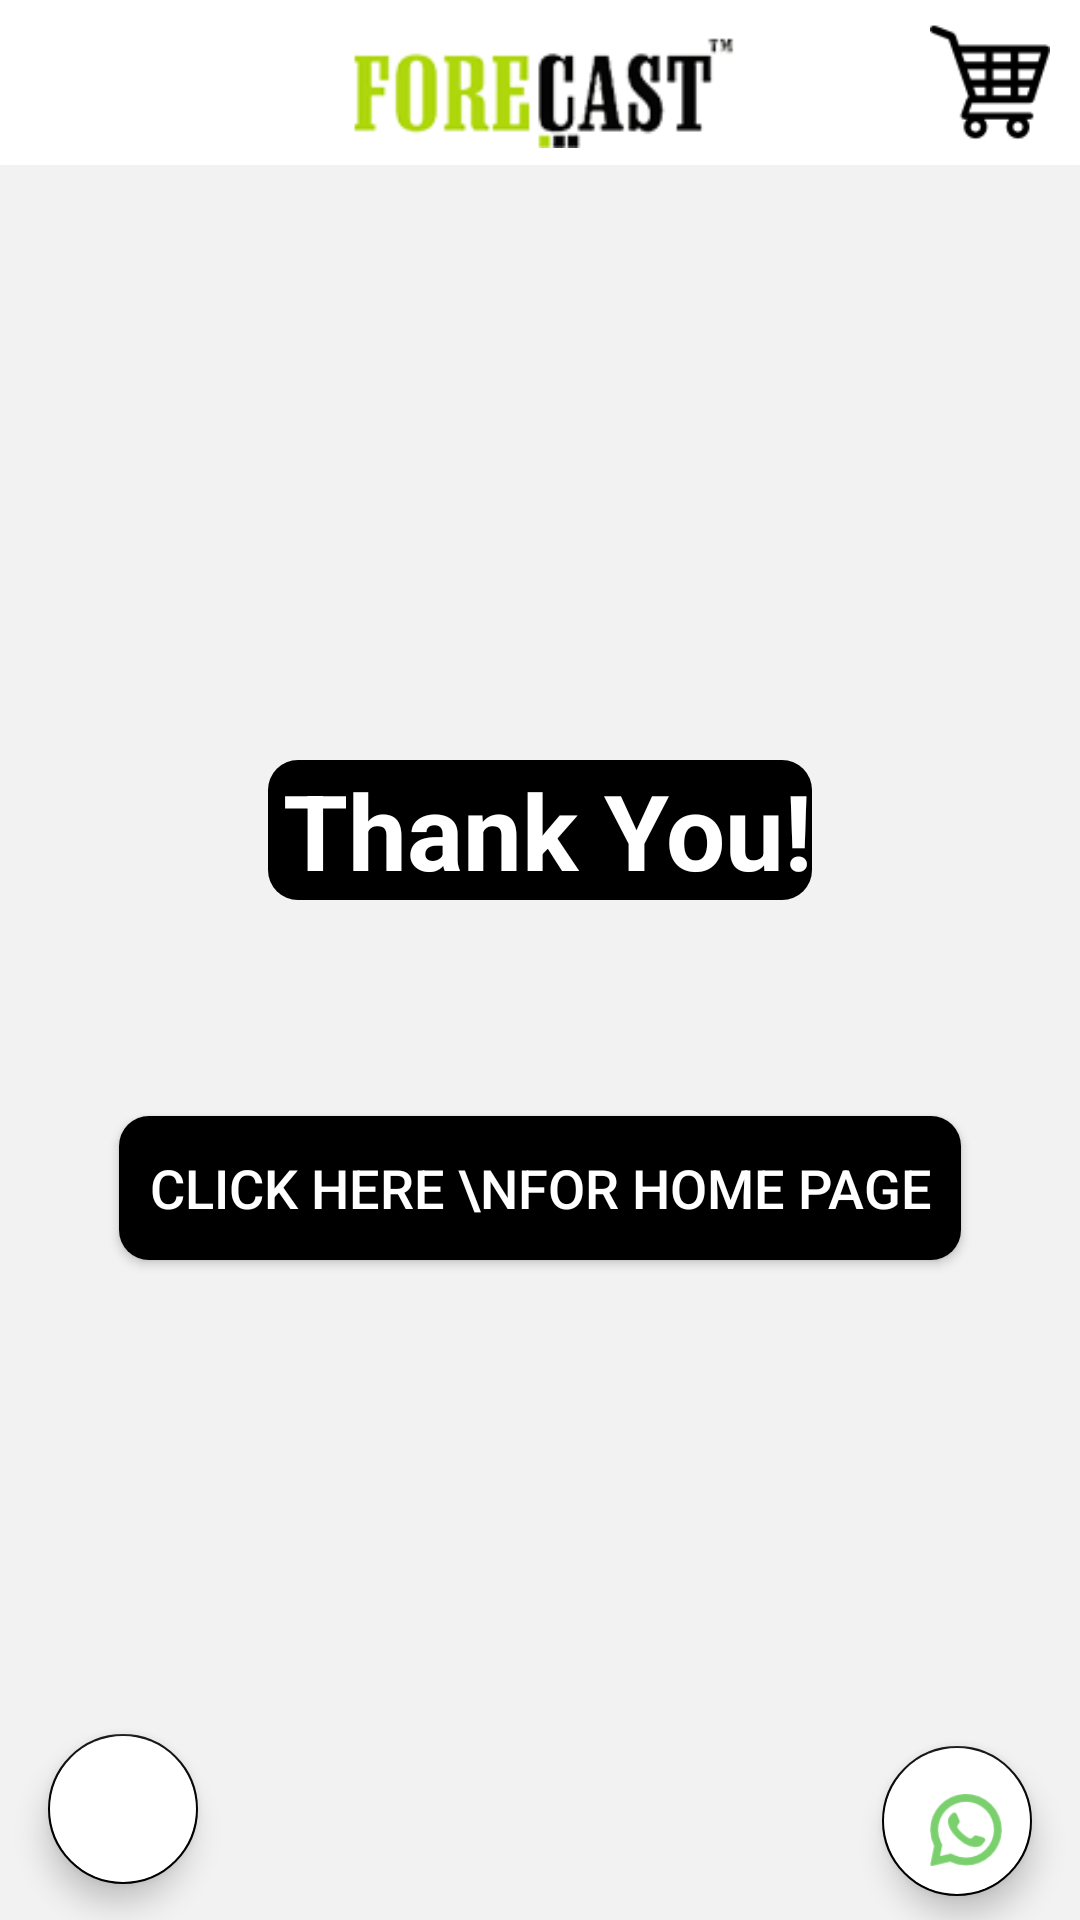

Where to tap for icons on this 1080 x 1920 app screen, as (x,y):
caart: (990,82)
